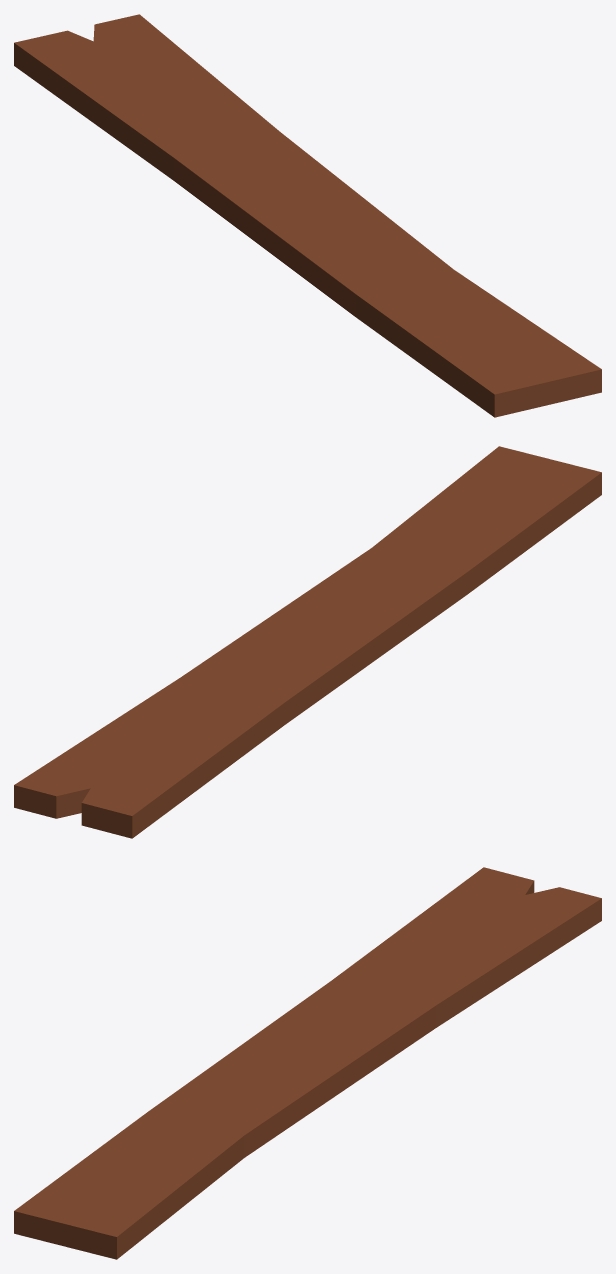
Rendered from LP_PostApoc_Plank2.fbx.
3 views of the same model, one above another, from view 1: azimuth 30°, elevation 25°; view 2: azimuth 150°, elevation 25°; view 3: azimuth 330°, elevation 25° (orthographic). The views are drawn at different scales.
Visible parts, largest first — view 1: Plank2; view 2: Plank2; view 3: Plank2.
Part boxes in pixels (left/top/right/bottom): Plank2: left=14, top=14, right=601, bottom=417; Plank2: left=14, top=446, right=601, bottom=838; Plank2: left=14, top=867, right=601, bottom=1259.
Bounding box in the file's own units: 29.4 × 5.21 × 197.
